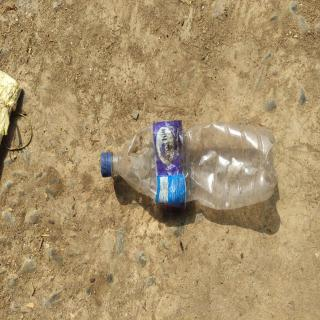Plastic-bottle: (98, 118, 282, 219)
